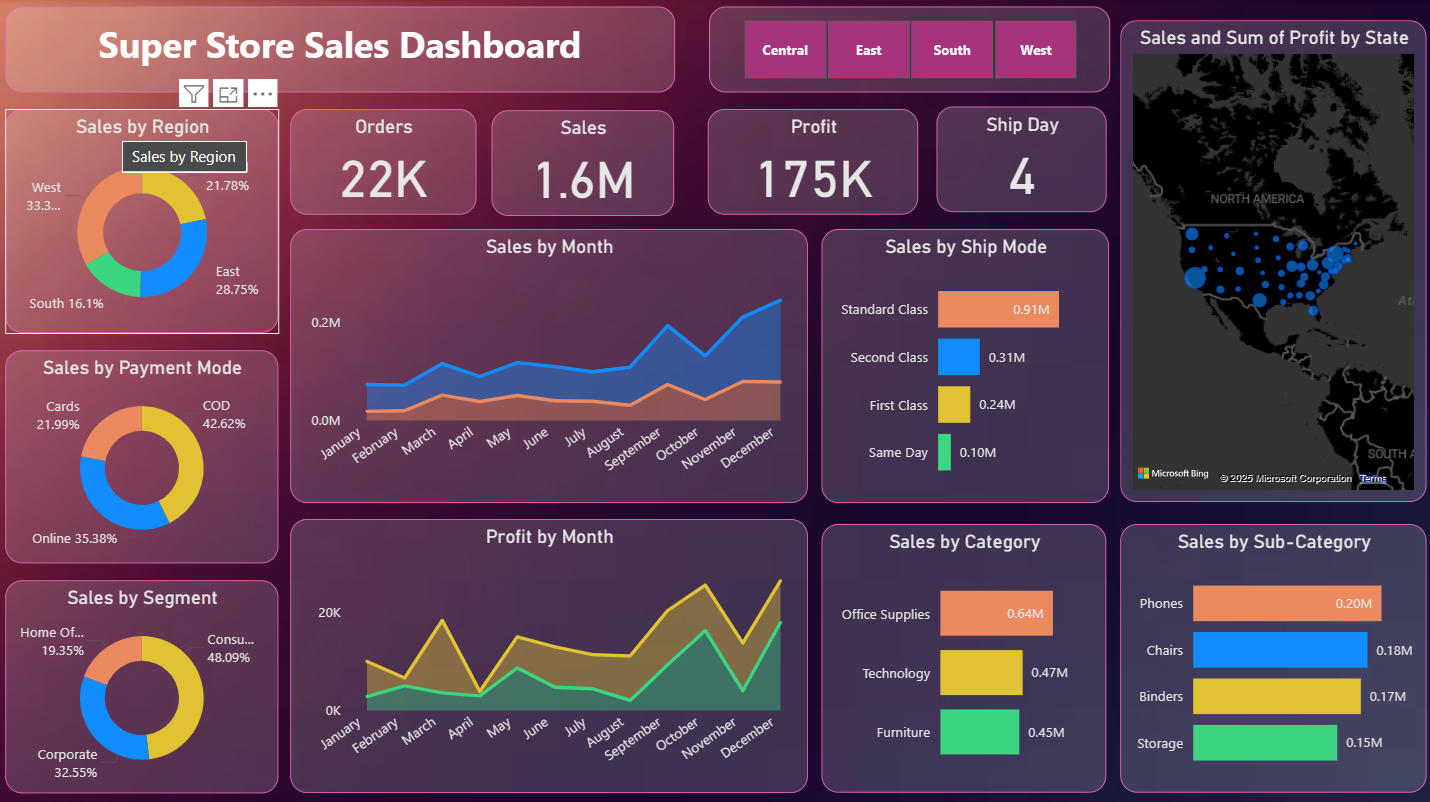

What the dashboard file says about the page in this screenshot:
{"tool":"powerbi","page":{"name":"Dashboard 1","canvas":[1280,720],"ordinal":0},"visuals":[{"type":"clusteredBarChart","title":"Sales by Category","fields":{"Category":["SuperStore_Sales_Dataset.Category"],"Y":["Sum(SuperStore_Sales_Dataset.Sales)"]},"box":[734.7,469.3,254.6,240.1],"z":0},{"type":"clusteredBarChart","title":"Sales by Sub-Category","fields":{"Category":["SuperStore_Sales_Dataset.Sub-Category"],"Y":["Sum(SuperStore_Sales_Dataset.Sales)"]},"box":[1001.3,469.3,273.9,240.1],"z":1000},{"type":"clusteredBarChart","title":"Sales by Ship Mode","fields":{"Category":["SuperStore_Sales_Dataset.Ship Mode"],"Y":["Sum(SuperStore_Sales_Dataset.Sales)"]},"box":[734.7,205.1,257,244.9],"z":2000},{"type":"stackedAreaChart","title":"Sales by Month","fields":{"Y":["Sum(SuperStore_Sales_Dataset.Sales)"],"Category":["SuperStore_Sales_Dataset.Order Date.Variation.Date Hierarchy.Month","SuperStore_Sales_Dataset.Order Date.Variation.Date Hierarchy.Day"],"Series":["SuperStore_Sales_Dataset.Order Date.Variation.Date Hierarchy.Year"]},"box":[260.6,205.1,462.1,244.9],"z":3000},{"type":"stackedAreaChart","title":"Profit by Month","fields":{"Category":["SuperStore_Sales_Dataset.Order Date.Variation.Date Hierarchy.Month","SuperStore_Sales_Dataset.Order Date.Variation.Date Hierarchy.Day"],"Series":["SuperStore_Sales_Dataset.Order Date.Variation.Date Hierarchy.Year"],"Y":["Sum(SuperStore_Sales_Dataset.Profit)"]},"box":[260.6,464.5,462.1,244.9],"z":4000},{"type":"map","title":"Sales and Sum of Profit by State","fields":{"Category":["SuperStore_Sales_Dataset.State"],"Size":["Sum(SuperStore_Sales_Dataset.Sales)"]},"box":[1001.3,19.3,273.9,430.7],"z":5000},{"type":"donutChart","title":"Sales by Segment","fields":{"Category":["SuperStore_Sales_Dataset.Segment"],"Y":["Sum(SuperStore_Sales_Dataset.Sales)"]},"box":[6,518.8,243.7,190.6],"z":6000},{"type":"donutChart","title":" Sales by Payment Mode","fields":{"Category":["SuperStore_Sales_Dataset.Payment Mode","SuperStore_Sales_Dataset.Segment"],"Y":["Sum(SuperStore_Sales_Dataset.Sales)"]},"box":[6,313.7,243.7,190.6],"z":7000},{"type":"slicer","fields":{"Values":["SuperStore_Sales_Dataset.Region"]},"box":[634,6.9,358.1,76.8],"z":8000},{"type":"textbox","box":[5.5,6.9,598.3,76.8],"z":9000},{"type":"card","title":"Sales","fields":{"Values":["Sum(SuperStore_Sales_Dataset.Sales)"]},"box":[440.4,98.9,162.9,94.1],"z":10000},{"type":"card","title":"Orders","fields":{"Values":["Sum(SuperStore_Sales_Dataset.Quantity)"]},"box":[260.7,98.8,166,94.7],"z":11000},{"type":"card","title":"Profit","fields":{"Values":["Sum(SuperStore_Sales_Dataset.Profit)"]},"box":[633.4,97.7,188.2,94.1],"z":12000},{"type":"card","title":"Ship Day","fields":{"Values":["Avg(SuperStore_Sales_Dataset.AvgDelivery)"]},"box":[837.1,96.1,152.3,94.7],"z":13000},{"type":"donutChart","title":"Sales by Region","fields":{"Y":["Sum(SuperStore_Sales_Dataset.Sales)"],"Series":["SuperStore_Sales_Dataset.Region"]},"box":[5.5,98.8,244.3,200.3],"z":14000}]}

Visuals, with their boxes in screenshot pixels (x1, y1, x2, y2), scaled from the page's 1280x720 canvas onto the 1430x802 screenshot:
"Sales by Category" clusteredBarChart: detection(821, 523, 1105, 790)
"Sales by Sub-Category" clusteredBarChart: detection(1119, 523, 1425, 790)
"Sales by Ship Mode" clusteredBarChart: detection(821, 228, 1108, 501)
"Sales by Month" stackedAreaChart: detection(291, 228, 807, 501)
"Profit by Month" stackedAreaChart: detection(291, 517, 807, 790)
"Sales and Sum of Profit by State" map: detection(1119, 21, 1425, 501)
"Sales by Segment" donutChart: detection(7, 578, 279, 790)
" Sales by Payment Mode" donutChart: detection(7, 349, 279, 562)
slicer - SuperStore_Sales_Dataset.Region: detection(708, 8, 1108, 93)
textbox: detection(6, 8, 675, 93)
"Sales" card: detection(492, 110, 674, 215)
"Orders" card: detection(291, 110, 477, 216)
"Profit" card: detection(708, 109, 918, 214)
"Ship Day" card: detection(935, 107, 1105, 213)
"Sales by Region" donutChart: detection(6, 110, 279, 333)
